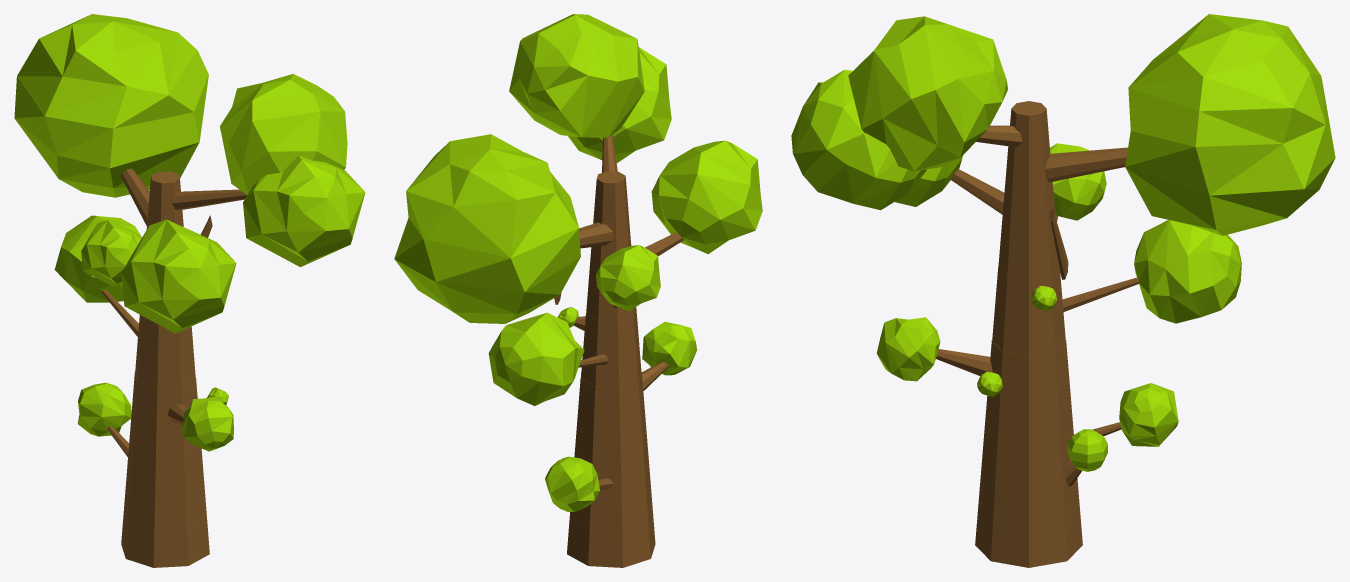
The model's file is Tree.fbx.
3 renders of one model, left to right at view 1: azimuth 30°, elevation 25°; view 2: azimuth 150°, elevation 25°; view 3: azimuth 270°, elevation 25°, orthographic. The views are drawn at different scales.
Parts seen in each view (by area): view 1: pasted__pasted__pasted__pSphere1, pasted__pasted__pasted__pasted__pasted__pSphere1 (×2), pasted__pasted__pasted__pasted__pSphere1, polySurface3, pasted__pasted__pasted__pasted__pasted__pasted__pasted__past (×2), polySurface7, polySurface1, polySurface6, pasted__pasted__pasted__pasted__pasted__pasted__pSphere1, pasted__pasted__pasted__pasted__pasted__pasted__pasted__pSph, polySurface2, pasted__pasted__pasted__pasted__pasted__pasted__pCylinder1 (+1 smaller); view 2: pasted__pasted__pasted__pSphere1, pasted__pasted__pasted__pasted__pasted__pSphere1 (×2), pasted__pasted__pasted__pasted__pasted__pasted__pSphere1, pasted__pasted__pasted__pasted__pasted__pasted__pasted__past (×2), polySurface7, polySurface3, pasted__pasted__pasted__pasted__pSphere1, polySurface6, polySurface1, polySurface2, pasted__pasted__pasted__pasted__pasted__pasted__pasted__pSph, polySurface5 (+2 smaller); view 3: pasted__pasted__pasted__pSphere1, pasted__pasted__pasted__pasted__pasted__pSphere1 (×2), pasted__pasted__pasted__pasted__pSphere1, pasted__pasted__pasted__pasted__pasted__pasted__pSphere1, polySurface3, polySurface7, pasted__pasted__pasted__pasted__pasted__pasted__pasted__past (×2), polySurface1, polySurface6, polySurface5, polySurface2, pasted__pasted__pasted__pasted__pasted__pasted__pasted__pSph (+6 smaller).
Boxes of the visible parts, x1,y1,x2,y2 form: pasted__pasted__pasted__pSphere1: (14,14,208,197); pasted__pasted__pasted__pasted__pasted__pSphere1 (×2): (121,74,347,333); pasted__pasted__pasted__pasted__pSphere1: (243,155,365,267); polySurface3: (124,439,206,528); pasted__pasted__pasted__pasted__pasted__pasted__pasted__past (×2): (77,220,141,436); polySurface7: (129,371,199,457); polySurface1: (121,507,209,567); polySurface6: (135,315,195,387); pasted__pasted__pasted__pasted__pasted__pasted__pSphere1: (54,215,141,302); pasted__pasted__pasted__pasted__pasted__pasted__pasted__pSph: (182,396,233,451); polySurface2: (146,171,183,229); pasted__pasted__pasted__pasted__pasted__pasted__pCylinder1: (172,189,246,210); pasted__pasted__pasted__pSphere1: (394,134,580,323); pasted__pasted__pasted__pasted__pasted__pSphere1 (×2): (509,14,762,254); pasted__pasted__pasted__pasted__pasted__pasted__pSphere1: (488,312,584,405); pasted__pasted__pasted__pasted__pasted__pasted__pasted__past (×2): (545,245,660,511); polySurface7: (575,371,646,457); polySurface3: (570,439,652,528); pasted__pasted__pasted__pasted__pSphere1: (568,47,671,162); polySurface6: (581,309,641,387); polySurface1: (567,506,655,567); polySurface2: (591,171,630,253); pasted__pasted__pasted__pasted__pasted__pasted__pasted__pSph: (642,321,697,375); polySurface5: (586,244,636,321); pasted__pasted__pasted__pSphere1: (1125,14,1335,235); pasted__pasted__pasted__pasted__pasted__pSphere1 (×2): (848,16,1007,206); pasted__pasted__pasted__pasted__pSphere1: (791,69,926,210); pasted__pasted__pasted__pasted__pasted__pasted__pSphere1: (1134,220,1241,323); polySurface3: (978,421,1079,521); polySurface7: (985,340,1072,438); pasted__pasted__pasted__pasted__pasted__pasted__pasted__past (×2): (1050,143,1178,446); polySurface1: (975,500,1082,567); polySurface6: (992,265,1065,355); polySurface5: (998,188,1058,278); polySurface2: (1005,101,1052,197); pasted__pasted__pasted__pasted__pasted__pasted__pasted__pSph: (876,317,940,381).
Bounding box in the file's own units: 35.47 × 73.53 × 64.03.
